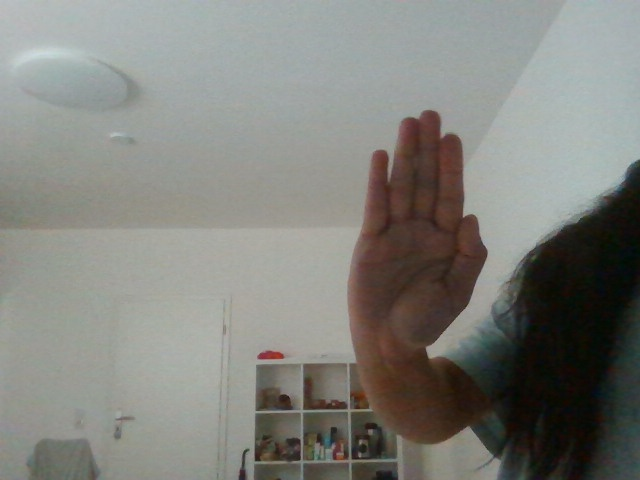open_hand: (342, 114, 490, 364)
